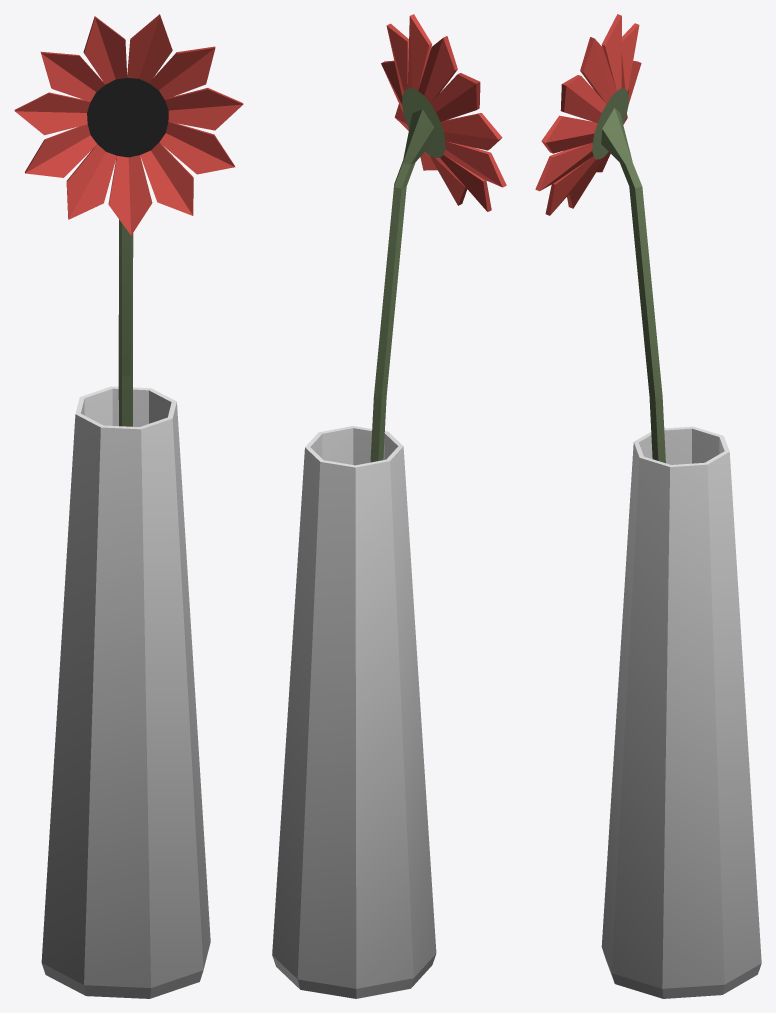
The model's file is Vase_01.fbx.
3 views of the same model, side by side, from view 1: azimuth 30°, elevation 25°; view 2: azimuth 150°, elevation 25°; view 3: azimuth 270°, elevation 25° (orthographic). The views are drawn at different scales.
Parts seen in each view (by area): view 1: Vase_01; view 2: Vase_01; view 3: Vase_01.
Part boxes in pixels (<box>): Vase_01: <box>14,14,243,998</box>; Vase_01: <box>272,14,506,998</box>; Vase_01: <box>535,14,761,998</box>.
Bounding box in the file's own units: 11.04 × 49.82 × 11.08.
